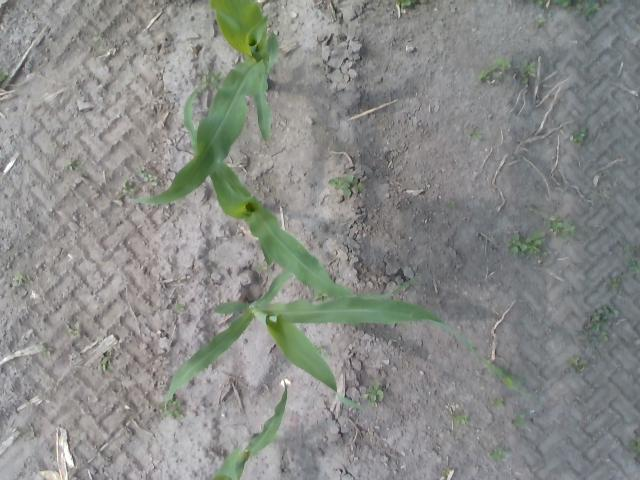Maize: (166, 268, 535, 412), (185, 81, 420, 298), (127, 0, 280, 206), (210, 376, 287, 480)
Weeds: (515, 0, 617, 18), (584, 304, 610, 332), (549, 214, 575, 237), (329, 172, 352, 197), (366, 382, 384, 409), (138, 166, 157, 185), (630, 429, 640, 464), (607, 272, 624, 290), (510, 234, 526, 253), (520, 60, 536, 78), (492, 444, 508, 462), (100, 354, 114, 374), (170, 400, 184, 420), (494, 52, 511, 68), (629, 254, 640, 278), (513, 410, 528, 426), (573, 127, 587, 143), (480, 67, 497, 80), (571, 356, 586, 370), (525, 238, 541, 251), (401, 0, 426, 8), (204, 71, 217, 86), (490, 396, 504, 409), (15, 272, 28, 286), (456, 413, 470, 425), (123, 180, 135, 194), (69, 322, 80, 336), (470, 129, 482, 140), (68, 160, 80, 171), (352, 179, 362, 192), (536, 14, 545, 28), (174, 302, 186, 312), (41, 346, 52, 356), (534, 231, 546, 240), (446, 200, 456, 209)
